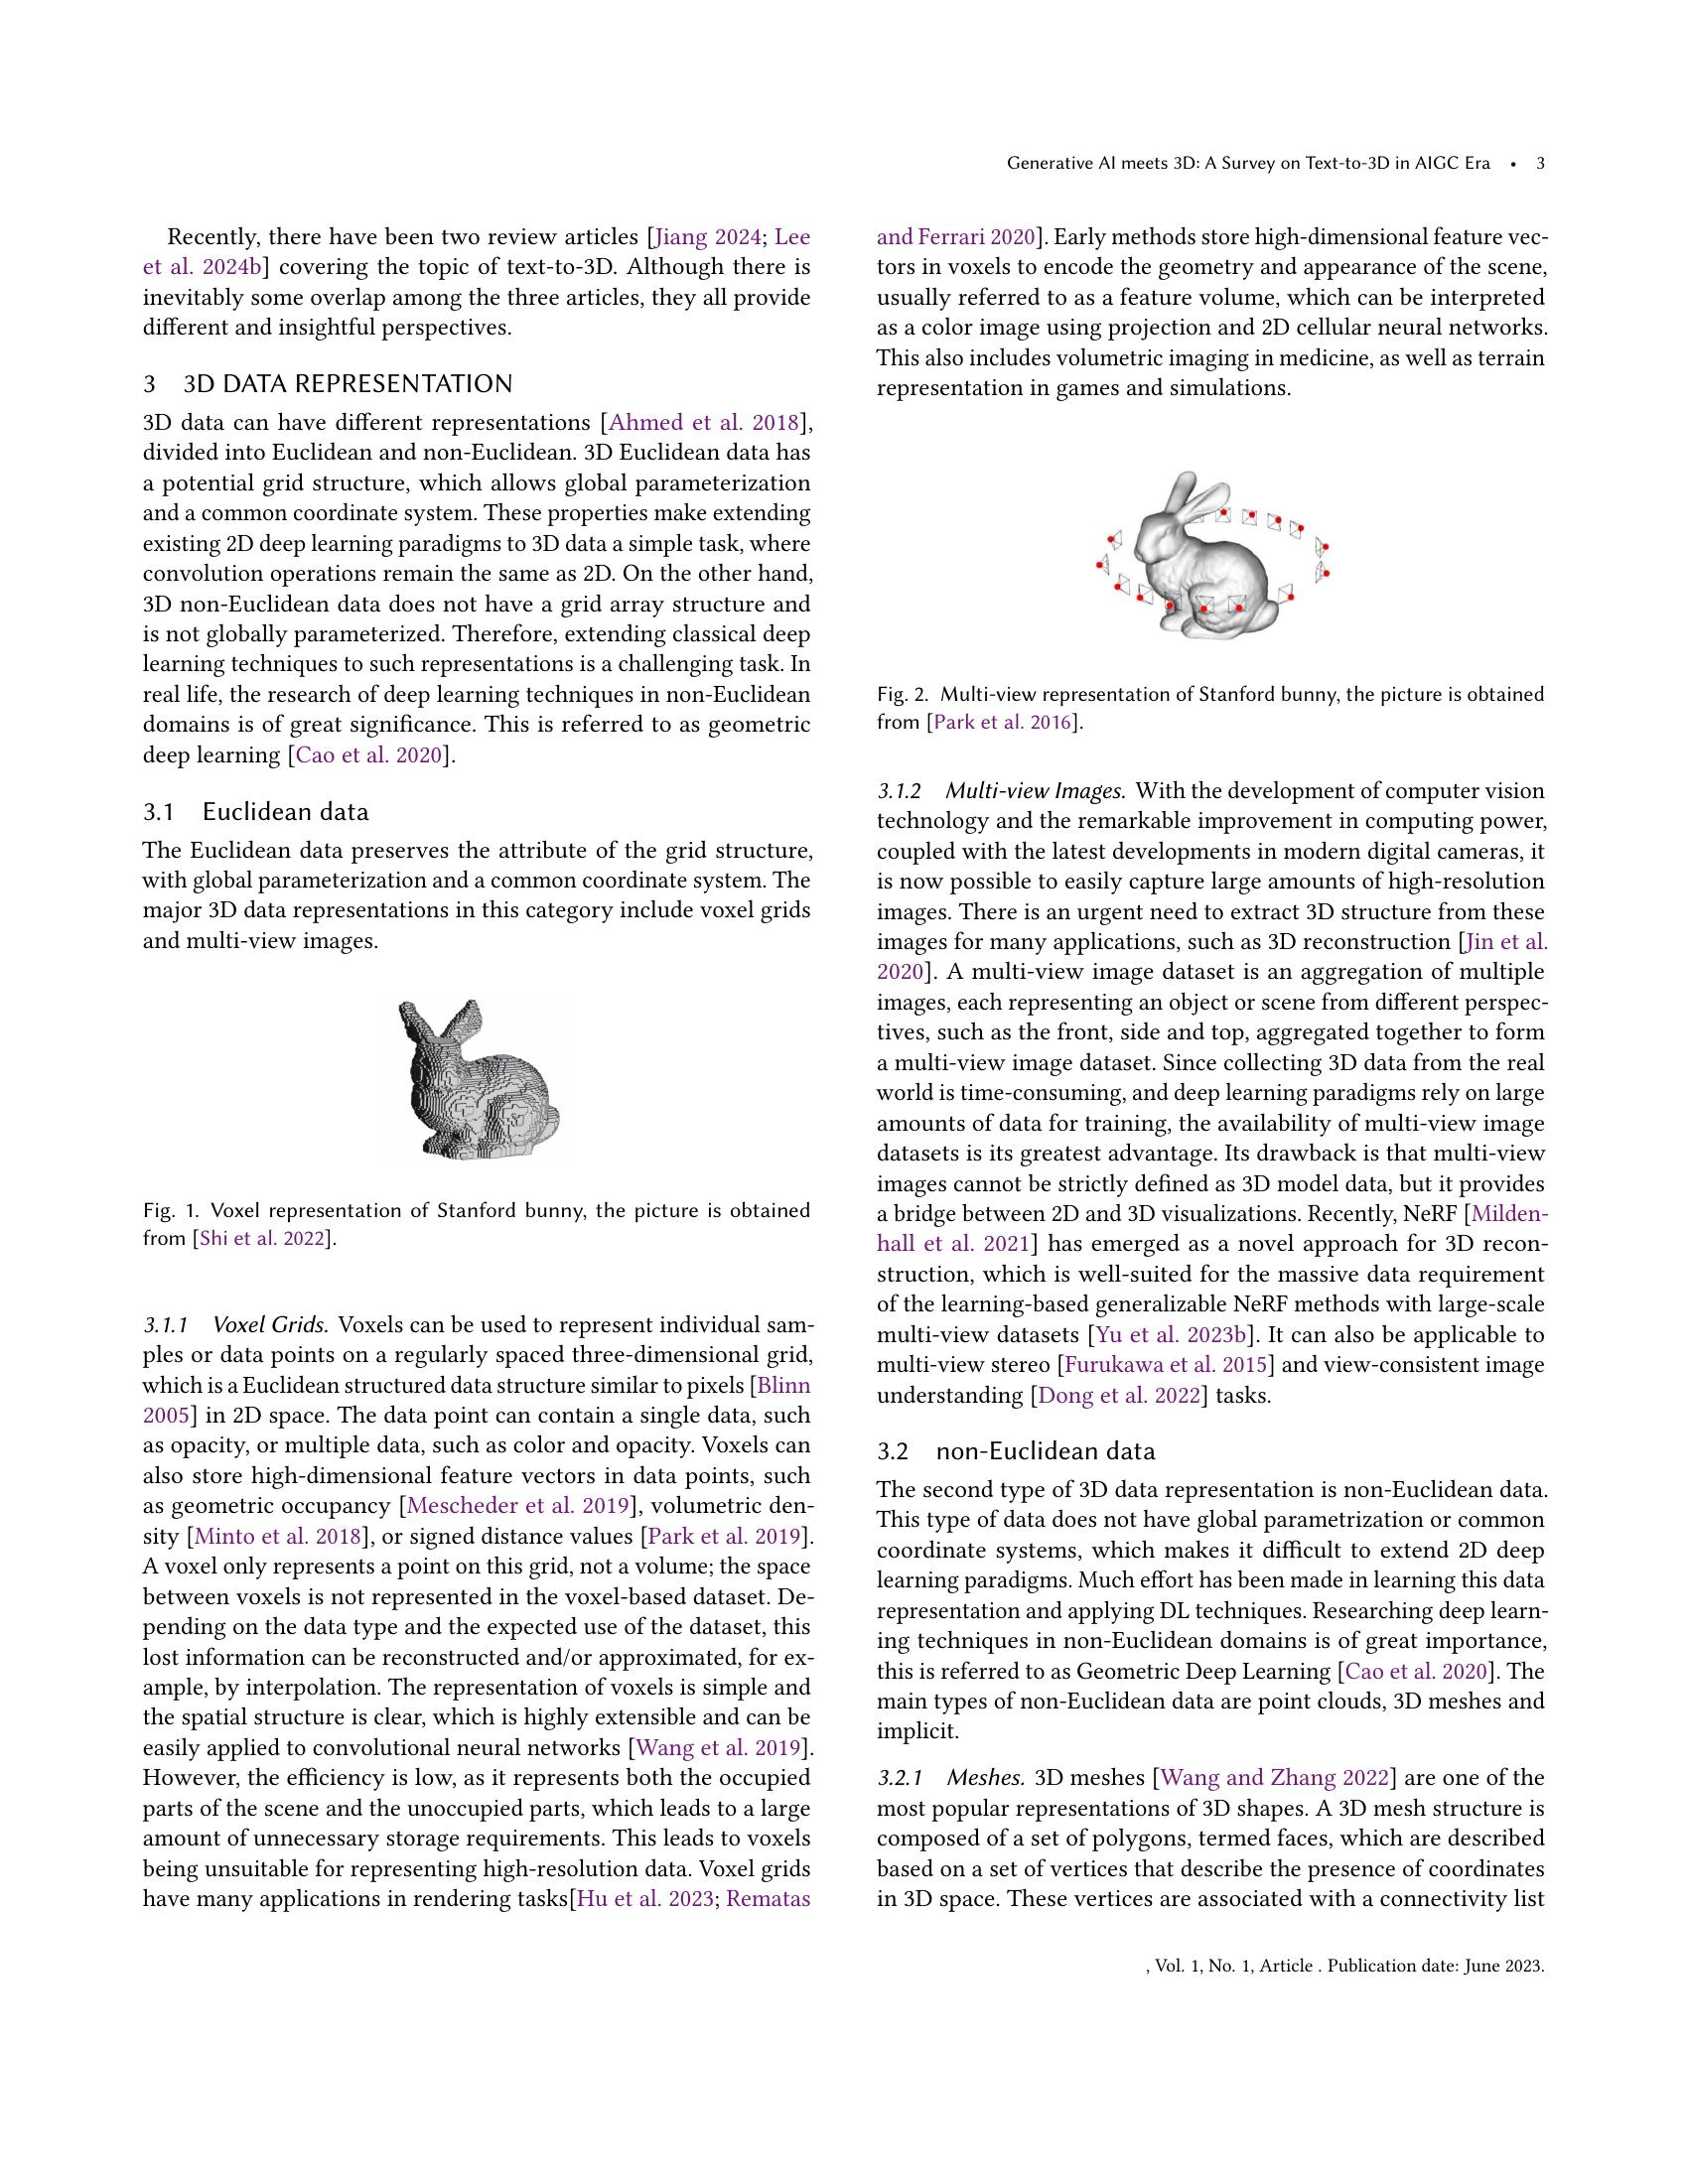figure: (869, 464, 1551, 743), (133, 994, 819, 1259)
text: (865, 773, 1555, 1416), (133, 1305, 819, 1922), (133, 220, 819, 776), (865, 1432, 1555, 1918), (865, 220, 1555, 409), (133, 792, 819, 959)
